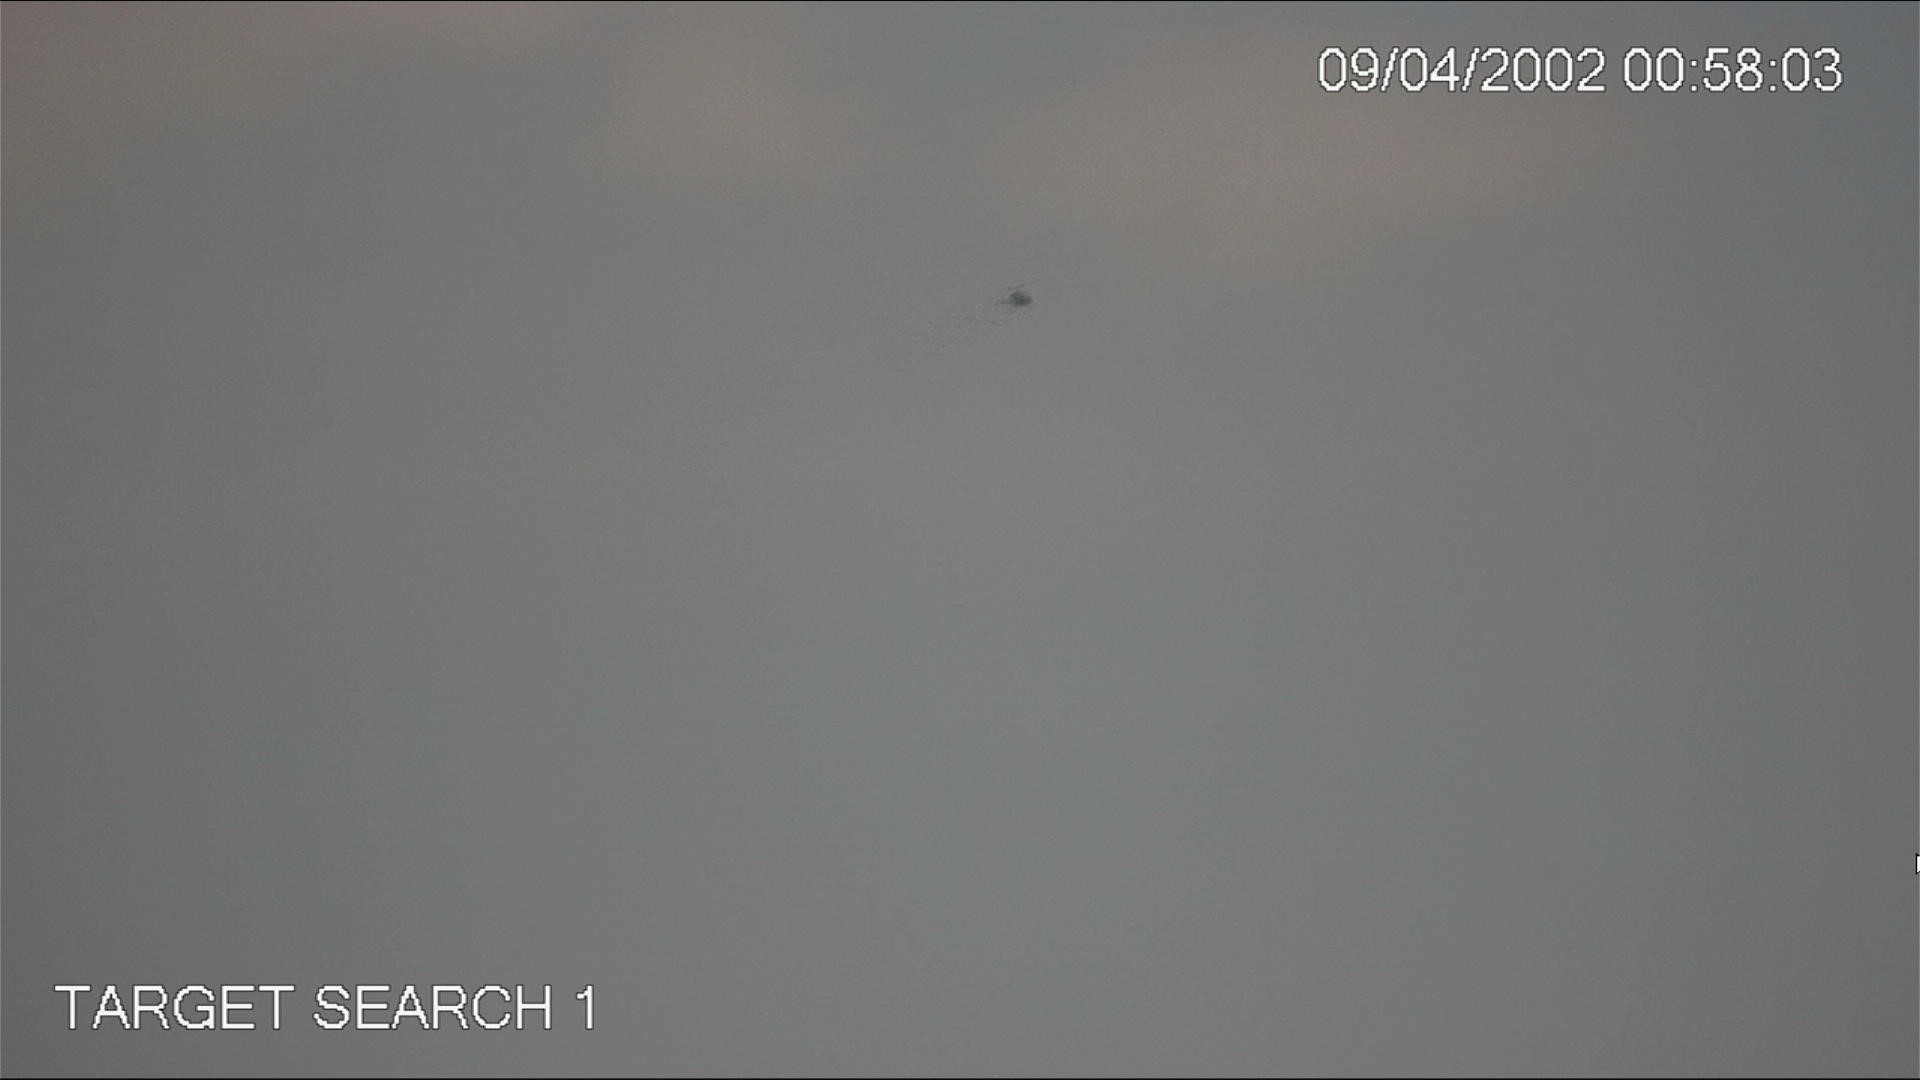SU_30: (994, 281, 1033, 309)
